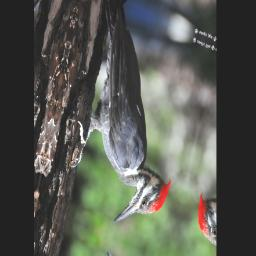Woodpecker: (61, 0, 202, 243)
